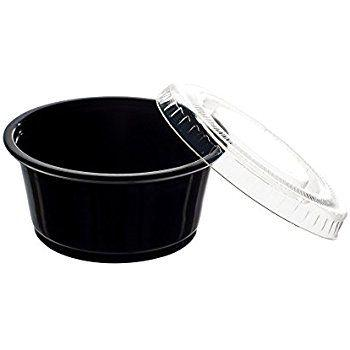PP: (1, 85, 345, 265)
